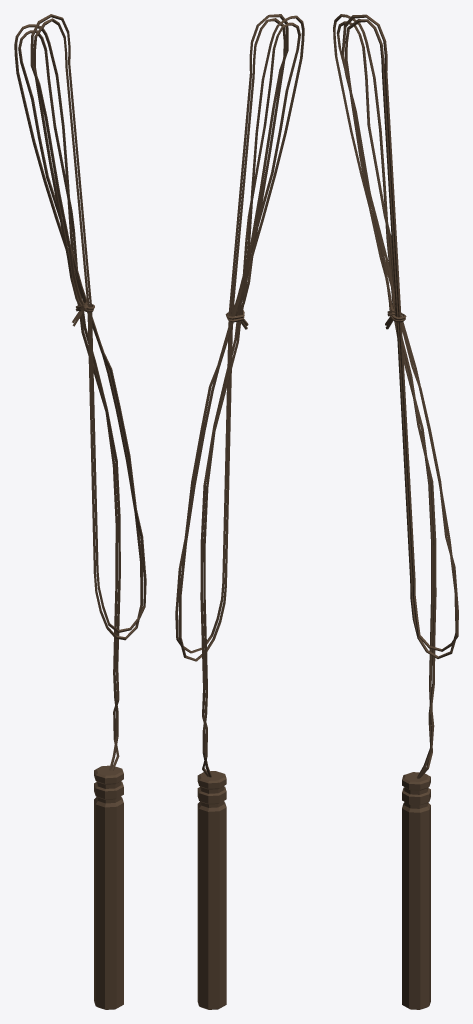
File: Detonator.obj
3 renders of one model, left to right at view 1: azimuth 30°, elevation 25°; view 2: azimuth 210°, elevation 25°; view 3: azimuth 330°, elevation 25°, orthographic. The views are drawn at different scales.
Parts seen in each view (by area): view 1: product-fedeae1f-5632-45fb-b415-7286551541c5-body; view 2: product-fedeae1f-5632-45fb-b415-7286551541c5-body; view 3: product-fedeae1f-5632-45fb-b415-7286551541c5-body.
Part boxes in pixels (x1,y1,x2,y2): product-fedeae1f-5632-45fb-b415-7286551541c5-body: (14, 14, 146, 1009); product-fedeae1f-5632-45fb-b415-7286551541c5-body: (175, 14, 304, 1009); product-fedeae1f-5632-45fb-b415-7286551541c5-body: (333, 14, 458, 1009).
Bounding box in the file's own units: 0.0286 × 0.2089 × 0.00583.
